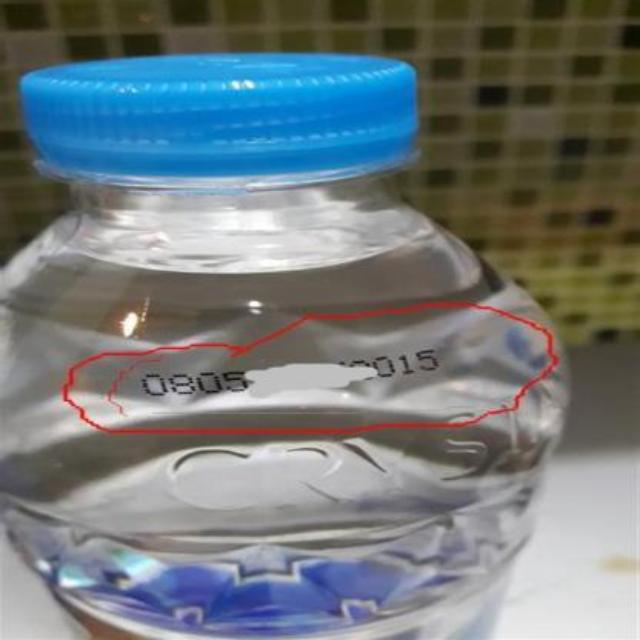plastic_bottle: (10, 45, 578, 640)
